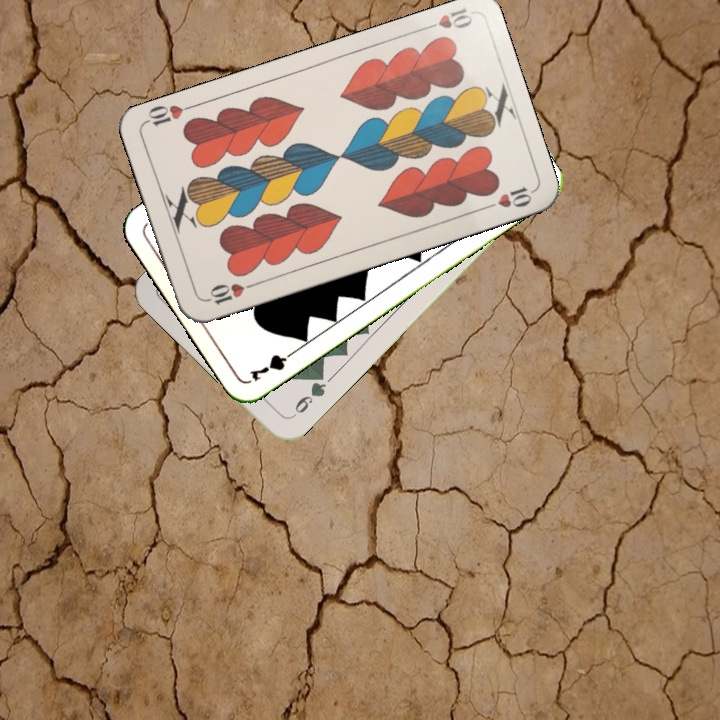G7: (245, 344, 300, 384)
G9: (288, 367, 329, 420)
H10: (201, 278, 259, 308), (417, 4, 475, 34)
